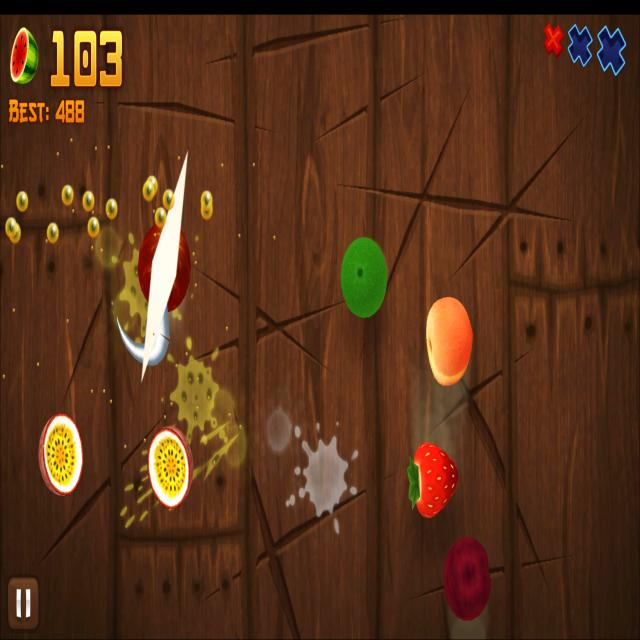fruit: (427, 297, 473, 386), (408, 442, 459, 518), (444, 538, 490, 621), (342, 238, 388, 318)
